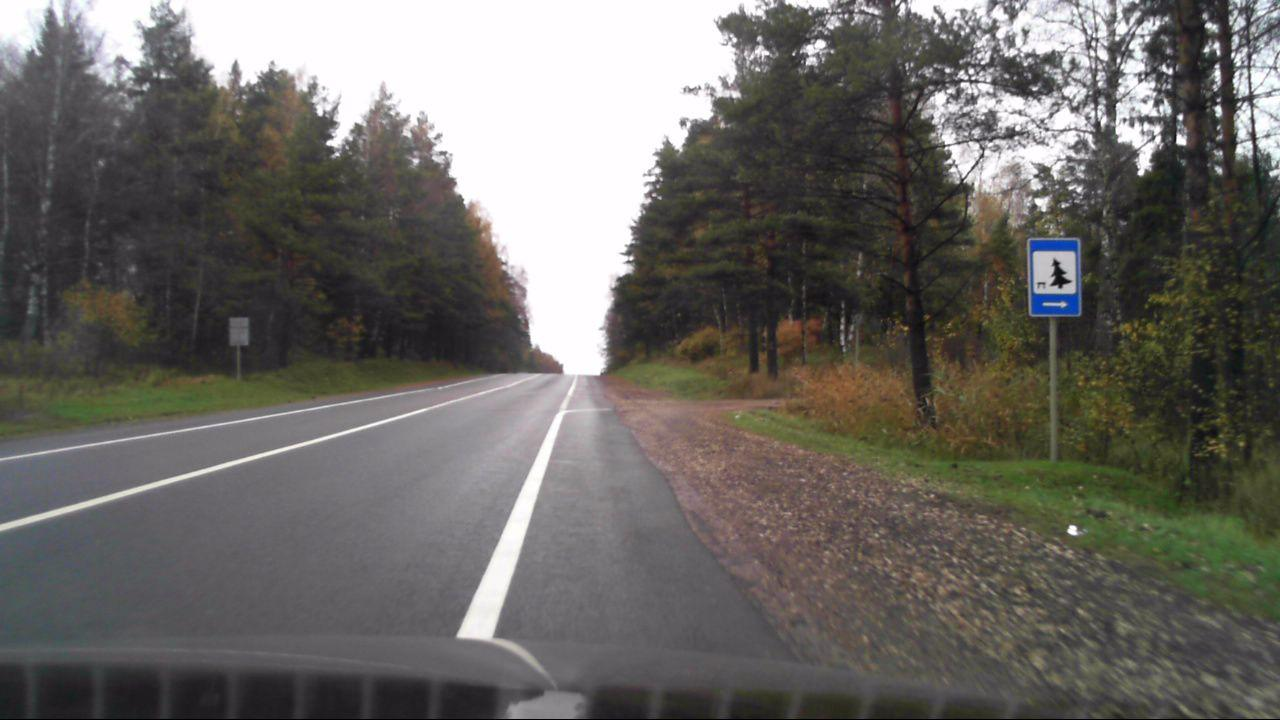7_11: (1029, 237, 1081, 316)
